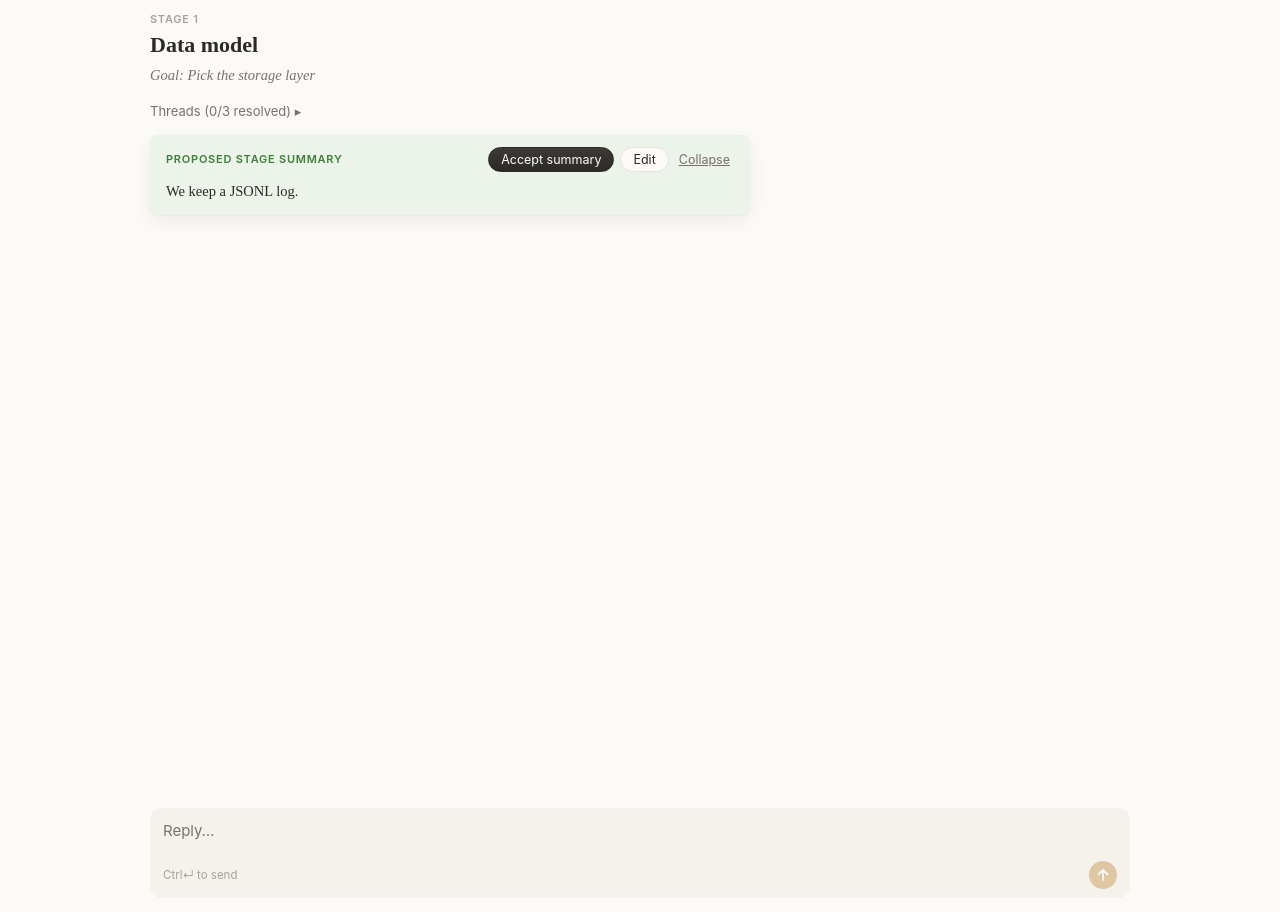
StageView › saves an edited summary without accepting it
Click the button "Edit".
click(645, 160)  # box [620, 147, 669, 172]
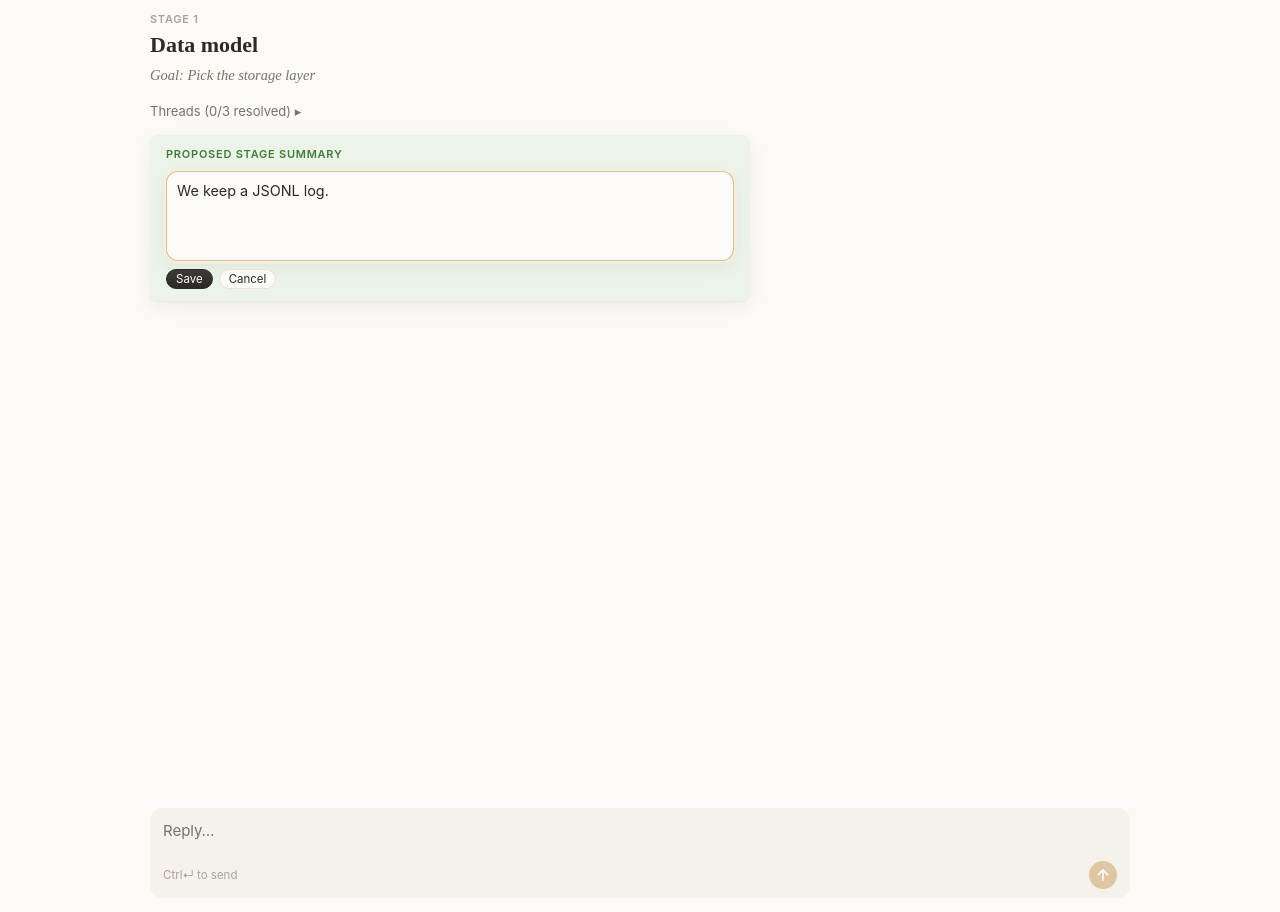
expect the text box named "Edit summary" holds "We keep a JSONL log.": met
expect the button "Accept summary" is gone: met
Replace the text in the text box named "Edit summary" with "We keep a JSONL log and content-addressed blobs." at (450, 212), box [177, 180, 723, 245]
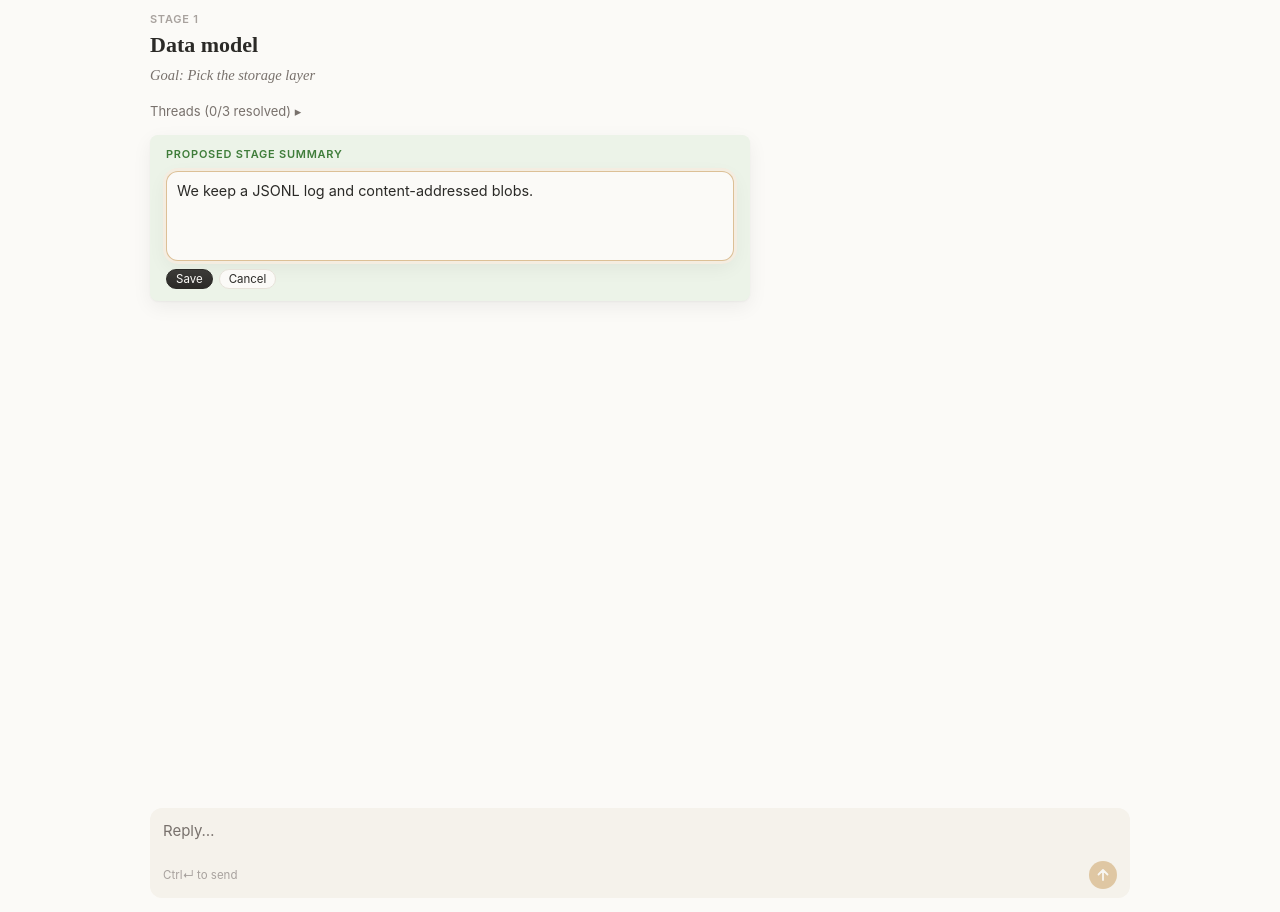
Click the button "Save".
click(189, 279)  # box [166, 269, 213, 289]
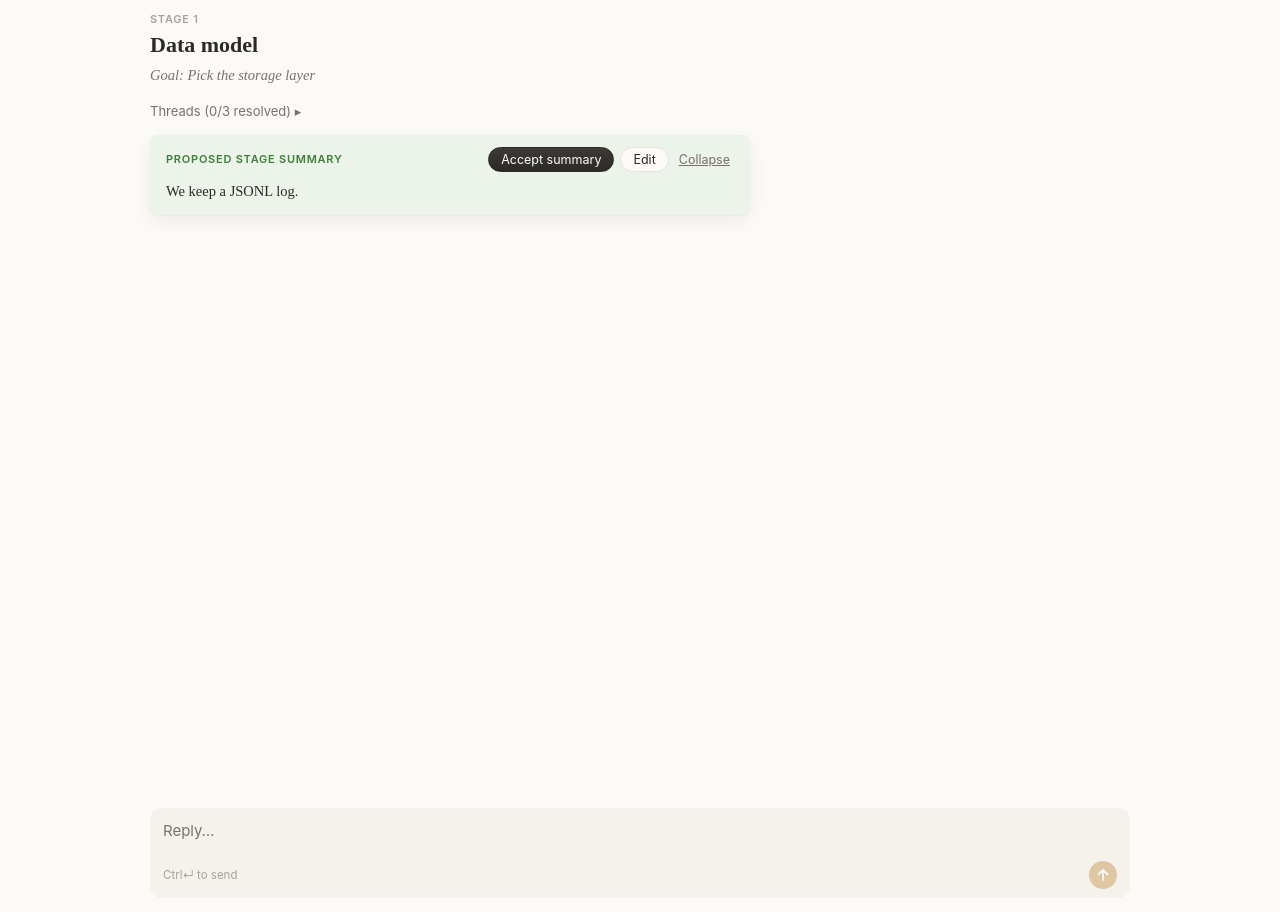
expect the button "Accept summary" is shown: met, box [488, 147, 614, 172]
